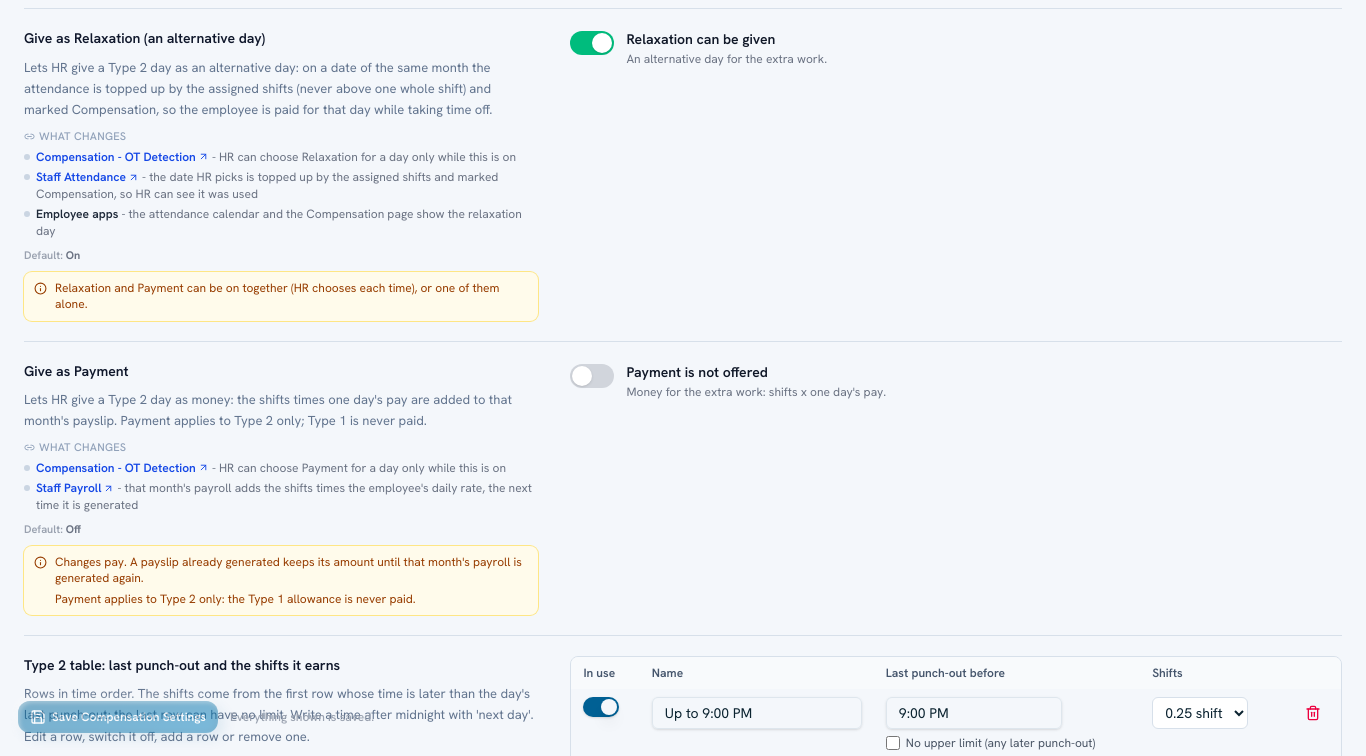
Settings -> Compensation: what it shows › puts the money in the Type 2 example only while Payment is on, and drops Relaxation while that is off
(page scrolled)
Click the switch with id "compensation-pay-switch": [592, 376] box [570,364,614,388]
(page scrolled)
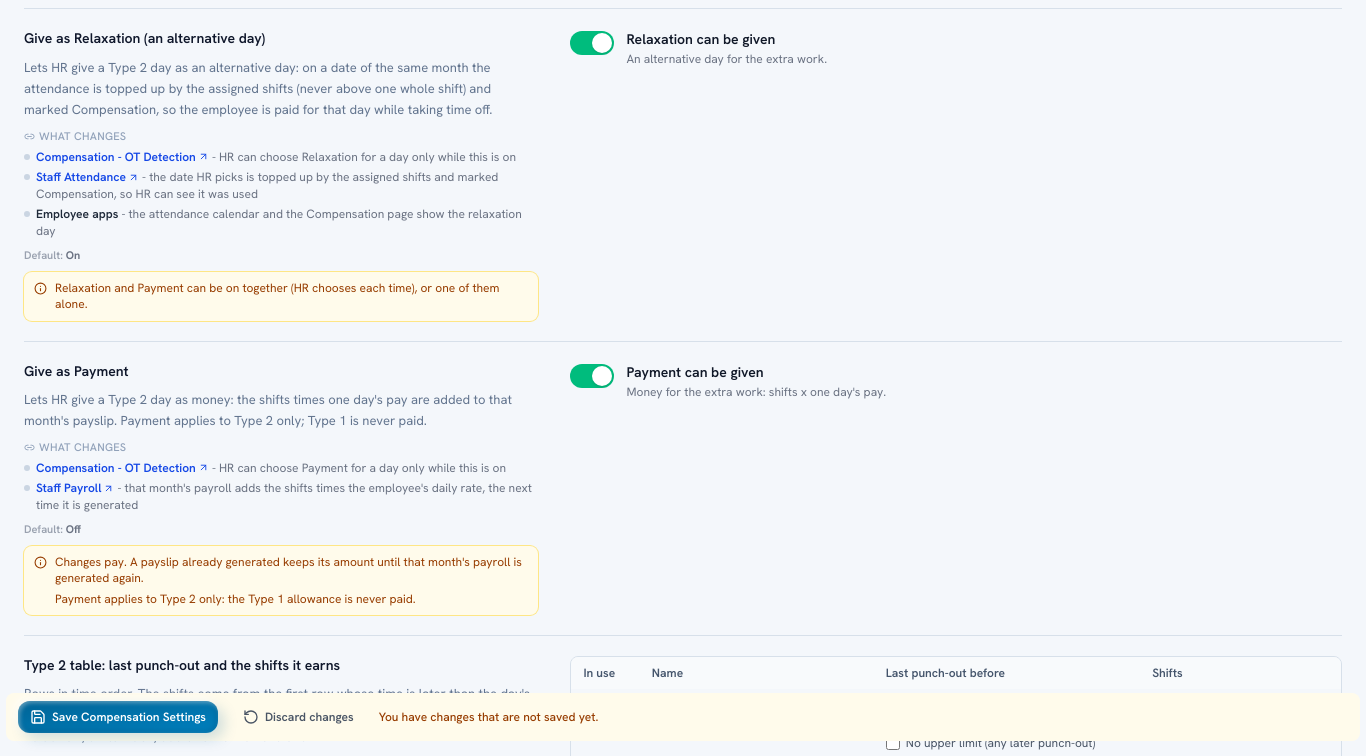
Click the switch with id "compensation-relaxation-switch": [592, 43] box [570,31,614,55]
(page scrolled)
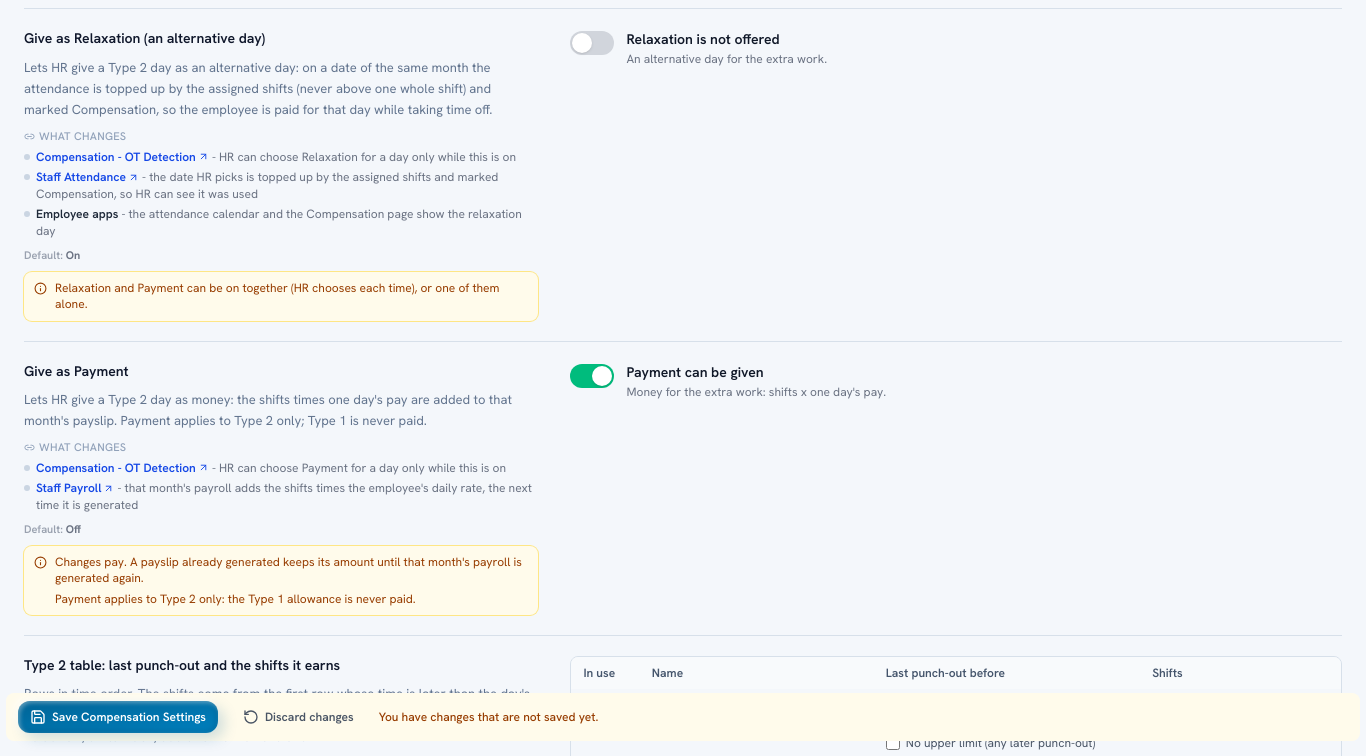
Check: the element with test id "type2-example" does not show "Relaxation"
neither: the server refuses that, so the form says so (and will not save), and the example says so too
Click the switch with id "compensation-pay-switch": [592, 376] box [570,364,614,388]
(page scrolled)
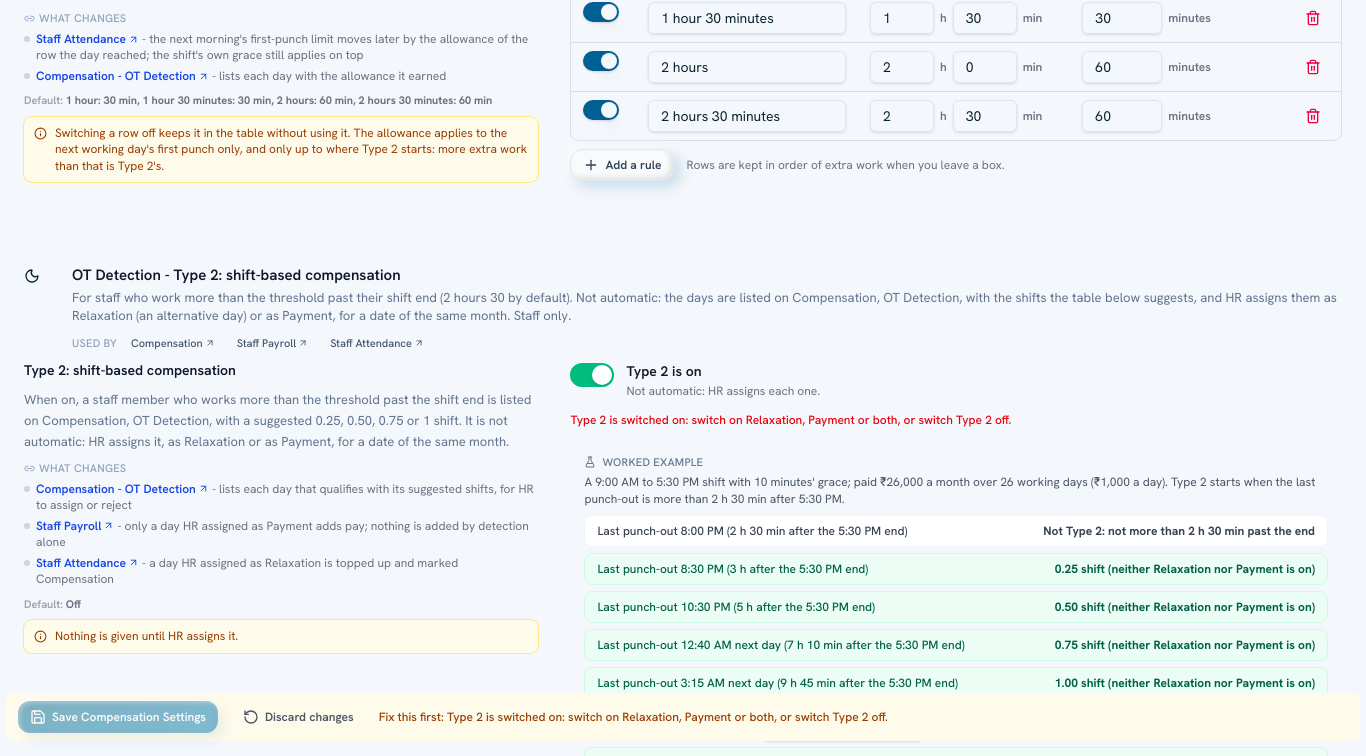
Check: the message with test id "shift-mode-error" shows "Type 2 is switched on: switch on Relaxation, Payment or both, or switch Type 2 off.", box [570,412,1011,428]
Check: the button "Save Compensation Settings" is disabled, box [18,701,218,733]
Check: the element with test id "type2-example" shows "(neither Relaxation nor Payment is on)", box [1055,561,1315,577]
Type 2 off: nothing to choose
Click the switch named "Type 2 is on": [592, 375] box [570,363,614,387]
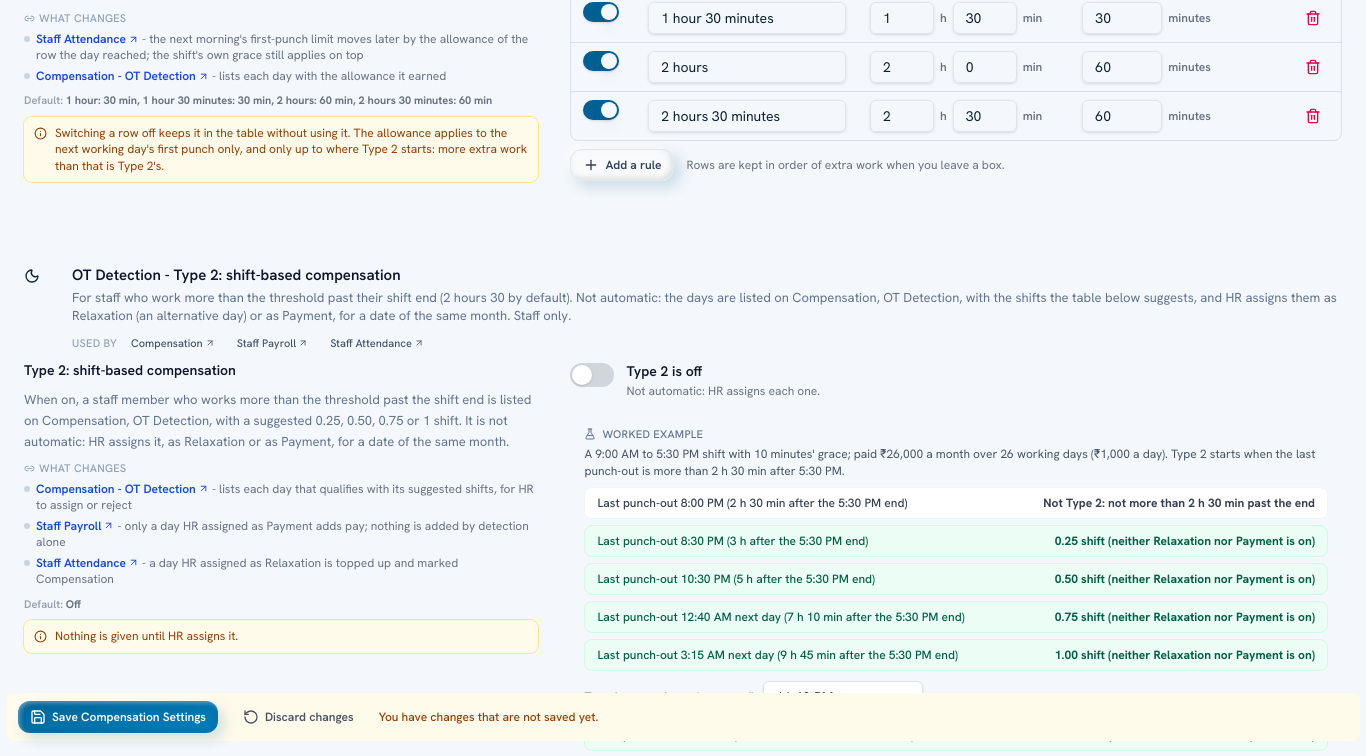
Check: the message with test id "shift-mode-error" is gone
Check: the button "Save Compensation Settings" is enabled, box [18,701,218,733]
